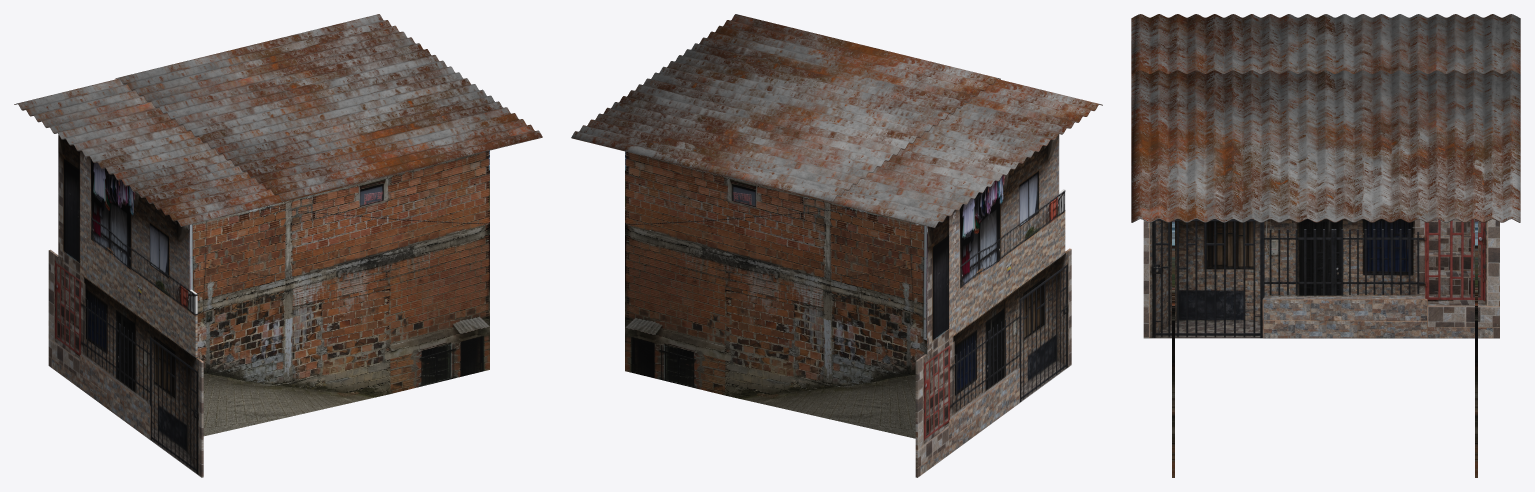
The model's file is casaA_derecha_08.fbx.
The picture shows the model from 3 angles, left to right: view 1: azimuth 30°, elevation 25°; view 2: azimuth 150°, elevation 25°; view 3: azimuth 270°, elevation 25°; orthographic projection. The views are drawn at different scales.
Visible parts, largest first — view 1: casaA_derecha_08B.002, CorrigatedPanel-2x2.012, casaA_derecha_08.001; view 2: casaA_derecha_08B.001, CorrigatedPanel-2x2.012, casaA_derecha_08.001; view 3: CorrigatedPanel-2x2.012, casaA_derecha_08.001, casaA_derecha_08B.001, casaA_derecha_08B.002.
Boxes of the visible parts, bbox=[...] form: casaA_derecha_08B.002: bbox=[189, 150, 489, 436]; CorrigatedPanel-2x2.012: bbox=[14, 14, 542, 226]; casaA_derecha_08.001: bbox=[48, 135, 203, 477]; casaA_derecha_08B.001: bbox=[625, 151, 927, 438]; CorrigatedPanel-2x2.012: bbox=[571, 14, 1102, 227]; casaA_derecha_08.001: bbox=[915, 134, 1071, 477]; CorrigatedPanel-2x2.012: bbox=[1131, 14, 1520, 222]; casaA_derecha_08.001: bbox=[1143, 219, 1499, 338]; casaA_derecha_08B.001: bbox=[1475, 219, 1477, 477]; casaA_derecha_08B.002: bbox=[1172, 220, 1174, 477].
Bounding box in the file's own units: 1114 × 783 × 891.
